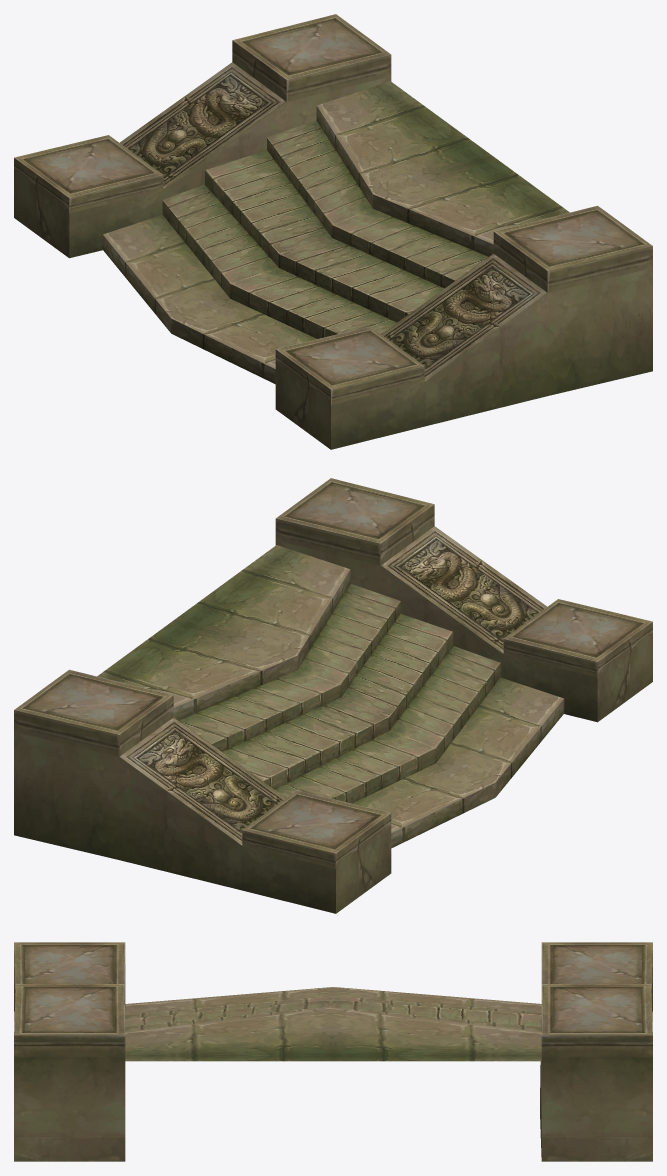
File: jintf_wujian_01c.FBX
3 renders of one model, top to bottom at view 1: azimuth 30°, elevation 25°; view 2: azimuth 150°, elevation 25°; view 3: azimuth 270°, elevation 25°, orthographic.
Parts seen in each view (by area): view 1: jintf_wujian_01c; view 2: jintf_wujian_01c; view 3: jintf_wujian_01c.
Part boxes in pixels (x1=…): jintf_wujian_01c: x1=14, y1=14, x2=652, y2=449; jintf_wujian_01c: x1=14, y1=478, x2=652, y2=913; jintf_wujian_01c: x1=14, y1=942, x2=652, y2=1161.
Size of the model in its own units: 263 by 97.29 by 446.
